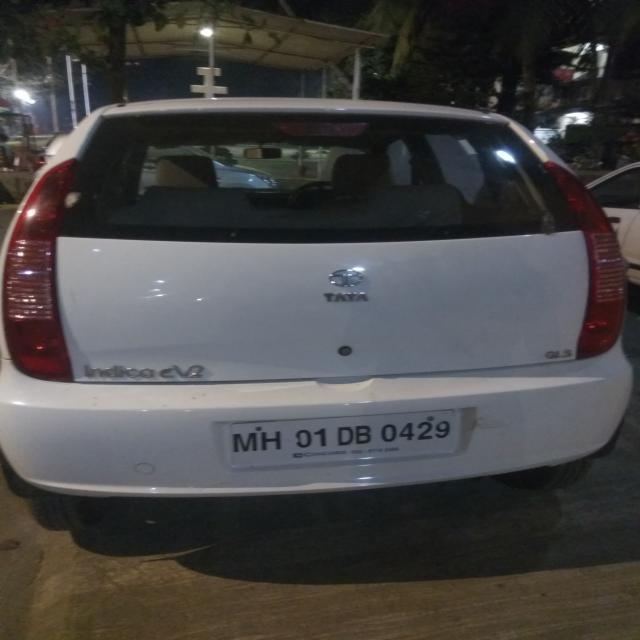Number-Plate: (234, 414, 466, 462)
